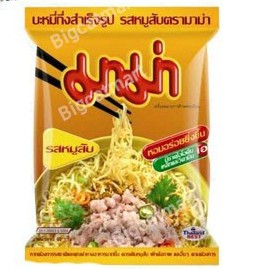Snack: (20, 3, 223, 267)
